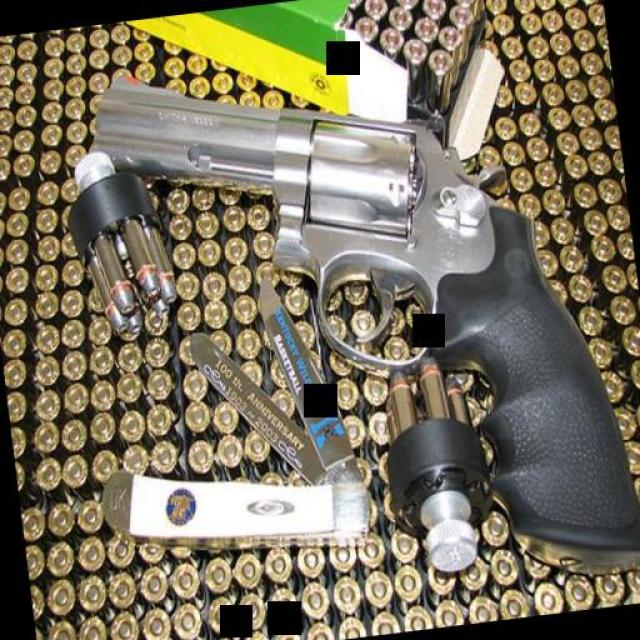gun: (77, 12, 640, 632)
